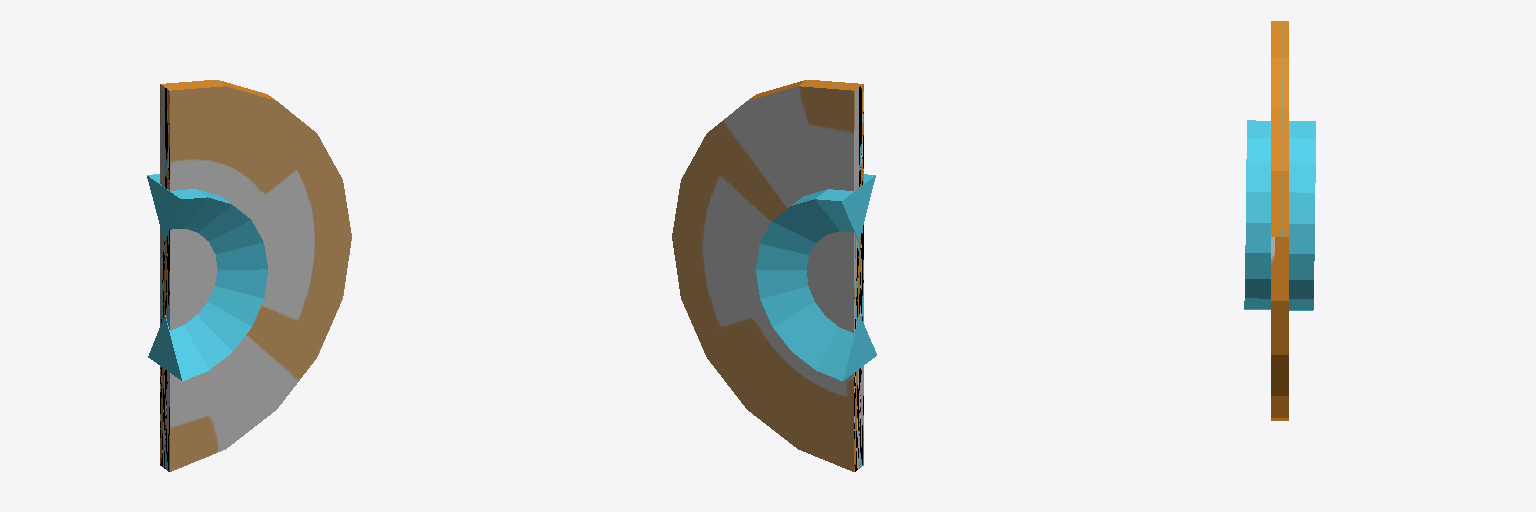
The picture shows the model from 3 angles: view 1: azimuth 30°, elevation 25°; view 2: azimuth 150°, elevation 25°; view 3: azimuth 270°, elevation 25°; orthographic projection.
Parts seen in each view (by area): view 1: polySurface1; view 2: polySurface1; view 3: polySurface1.
Boxes of the visible parts, box(x1,y1,x2,y2) form: polySurface1: box(147, 80, 351, 471); polySurface1: box(672, 80, 876, 471); polySurface1: box(1244, 21, 1315, 420).
Bounding box in the file's own units: 1 × 2 × 0.3414.
Materials: 1 (1 with a texture image).